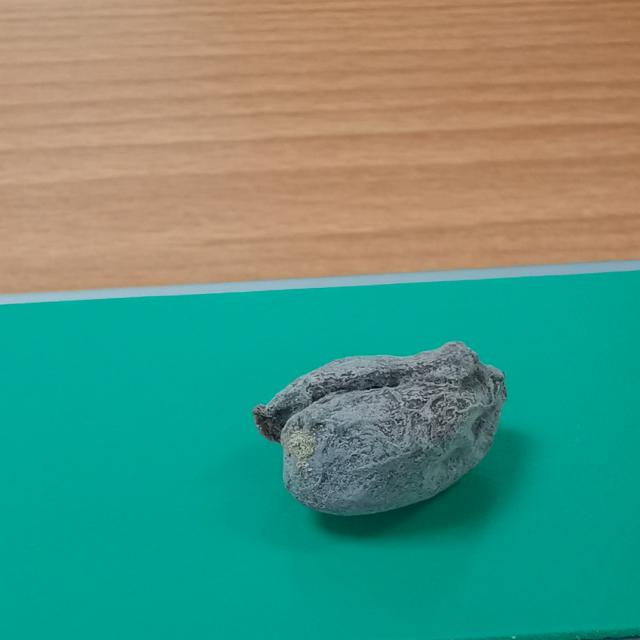Agglomerated_cocoabeans: (185, 317, 567, 566)
